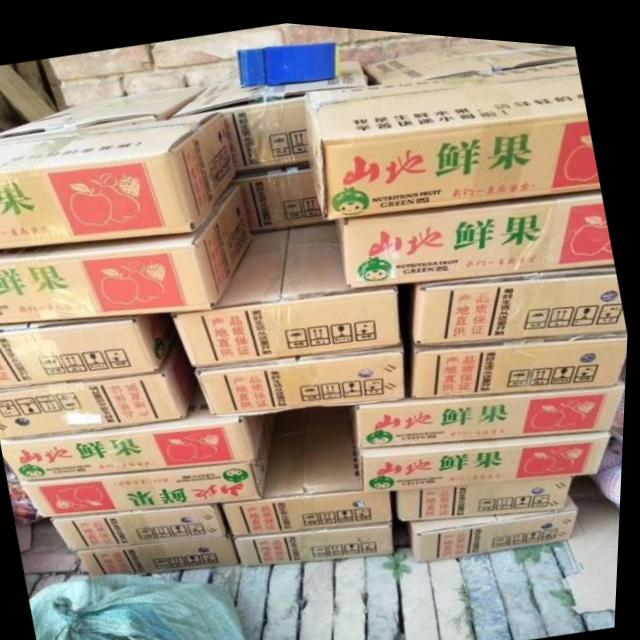box: (304, 48, 601, 213), (0, 175, 256, 323), (177, 215, 408, 364), (0, 110, 239, 248), (336, 178, 614, 282), (7, 375, 272, 481), (24, 415, 277, 517), (168, 52, 367, 170), (223, 411, 401, 533), (0, 337, 199, 440), (401, 255, 627, 341), (357, 372, 628, 442), (363, 420, 618, 482), (195, 341, 413, 413), (408, 322, 630, 389), (0, 310, 183, 388), (414, 486, 583, 555), (0, 82, 210, 136), (53, 497, 237, 550), (361, 32, 577, 77), (399, 465, 577, 514), (236, 515, 398, 563), (237, 158, 338, 229), (81, 534, 249, 574)
